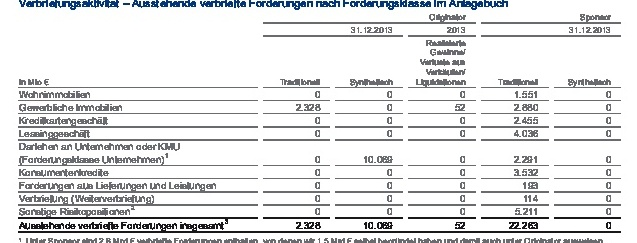table: (0, 0, 637, 243)
